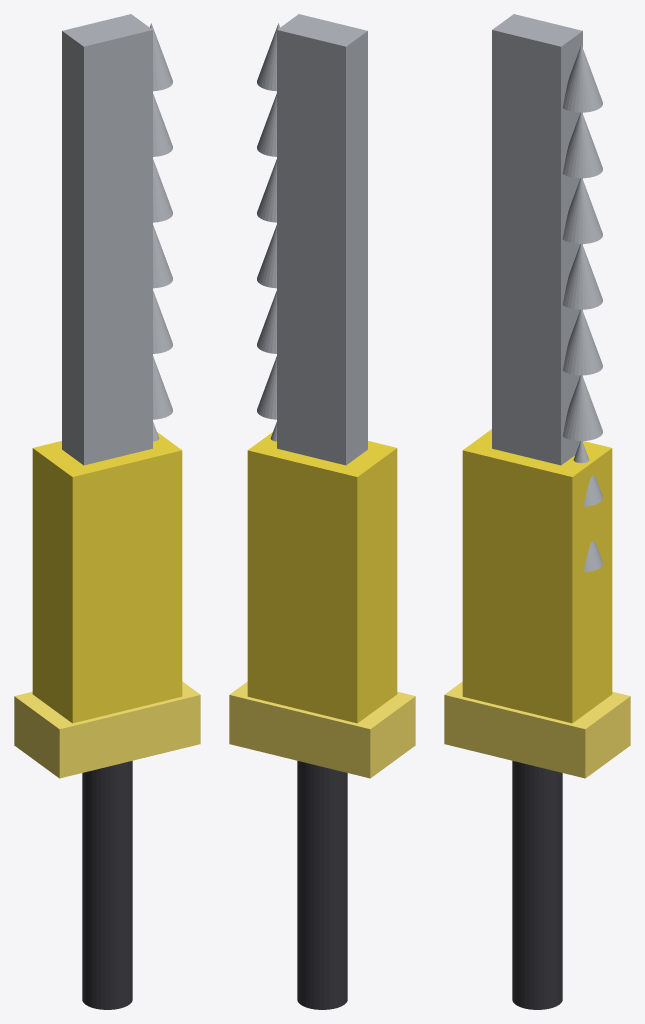
The model's file is chainsword.glb.
The picture shows the model from 3 angles, left to right: view 1: azimuth 30°, elevation 25°; view 2: azimuth 150°, elevation 25°; view 3: azimuth 330°, elevation 25°; orthographic projection.
Visible parts, largest first — view 1: Cube.002, Cube.001, Cylinder, Cube, Cone.007, Cone.002, Cone.003, Cone.004, Cone.005, Cone.006; view 2: Cube.002, Cube.001, Cylinder, Cube, Cone.007, Cone.002, Cone.003, Cone.004, Cone.005, Cone.006; view 3: Cube.001, Cube.002, Cylinder, Cube, Cone.003, Cone.006, Cone.005, Cone.007, Cone.004, Cone.002, Cone.001.
Part boxes in pixels (left/top/right/bottom): Cube.002: left=62, top=14, right=152, bottom=465; Cube.001: left=32, top=432, right=182, bottom=723; Cylinder: left=82, top=761, right=132, bottom=1009; Cube: left=14, top=681, right=200, bottom=778; Cone.007: left=150, top=23, right=172, bottom=91; Cone.002: left=153, top=356, right=172, bottom=419; Cone.003: left=153, top=290, right=172, bottom=353; Cone.004: left=153, top=225, right=172, bottom=288; Cone.005: left=153, top=159, right=172, bottom=222; Cone.006: left=153, top=93, right=172, bottom=156; Cube.002: left=277, top=14, right=367, bottom=465; Cube.001: left=247, top=432, right=397, bottom=723; Cylinder: left=297, top=761, right=347, bottom=1009; Cube: left=229, top=681, right=415, bottom=778; Cone.007: left=257, top=23, right=279, bottom=91; Cone.002: left=257, top=356, right=276, bottom=419; Cone.003: left=257, top=290, right=276, bottom=353; Cone.004: left=257, top=225, right=276, bottom=288; Cone.005: left=257, top=159, right=276, bottom=222; Cone.006: left=257, top=93, right=276, bottom=156; Cube.001: left=462, top=429, right=612, bottom=723; Cube.002: left=492, top=14, right=582, bottom=465; Cylinder: left=512, top=761, right=562, bottom=1009; Cube: left=444, top=681, right=630, bottom=778; Cone.003: left=562, top=309, right=602, bottom=375; Cone.006: left=562, top=112, right=602, bottom=178; Cone.005: left=562, top=178, right=602, bottom=243; Cone.007: left=562, top=45, right=602, bottom=112; Cone.004: left=562, top=244, right=602, bottom=309; Cone.002: left=562, top=375, right=602, bottom=440; Cone.001: left=573, top=441, right=602, bottom=506.
Bounding box in the file's own units: 0.45 × 2.95 × 0.25.
